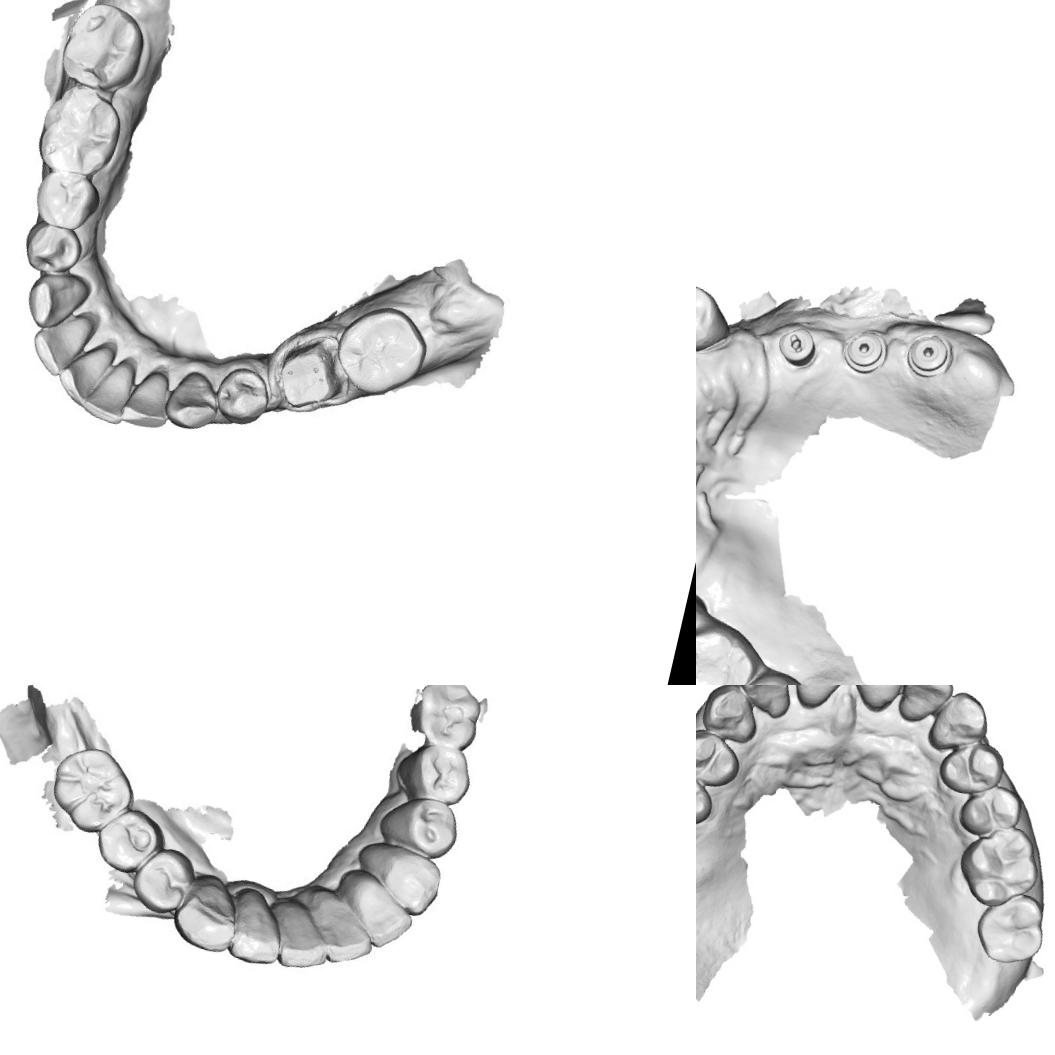canine: (346, 830, 450, 916), (170, 868, 247, 958), (15, 266, 96, 338), (929, 686, 994, 762), (163, 365, 228, 438), (696, 685, 766, 746), (696, 270, 733, 356)
crown: (272, 334, 344, 420)
implant: (838, 322, 890, 378), (902, 328, 954, 381)
implant_minus: (774, 321, 822, 371)
incisor: (331, 866, 424, 947), (294, 885, 381, 965), (222, 883, 291, 966), (263, 894, 335, 972), (24, 307, 95, 385), (52, 333, 116, 415), (117, 360, 182, 435), (81, 352, 137, 428), (894, 685, 957, 732), (839, 685, 917, 722), (733, 685, 800, 720), (779, 685, 855, 715)
molar: (950, 818, 1047, 917), (32, 84, 125, 182), (334, 303, 428, 396), (58, 1, 146, 94), (48, 744, 133, 833), (970, 886, 1052, 971), (407, 685, 490, 753), (696, 613, 764, 685), (407, 739, 477, 807), (713, 658, 817, 685)
premolar: (933, 734, 1009, 800), (954, 778, 1026, 845), (94, 808, 165, 875), (208, 359, 274, 430), (33, 162, 99, 230), (18, 216, 88, 280), (400, 792, 466, 856), (131, 848, 194, 909), (696, 723, 748, 791), (696, 765, 720, 831)
